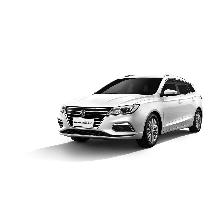EV: (59, 75, 207, 148)
